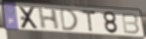8: (102, 11, 119, 34)
B: (120, 12, 141, 35)
D: (59, 8, 79, 32)
H: (37, 8, 61, 31)
T: (81, 9, 98, 34)
X: (18, 6, 41, 31)
